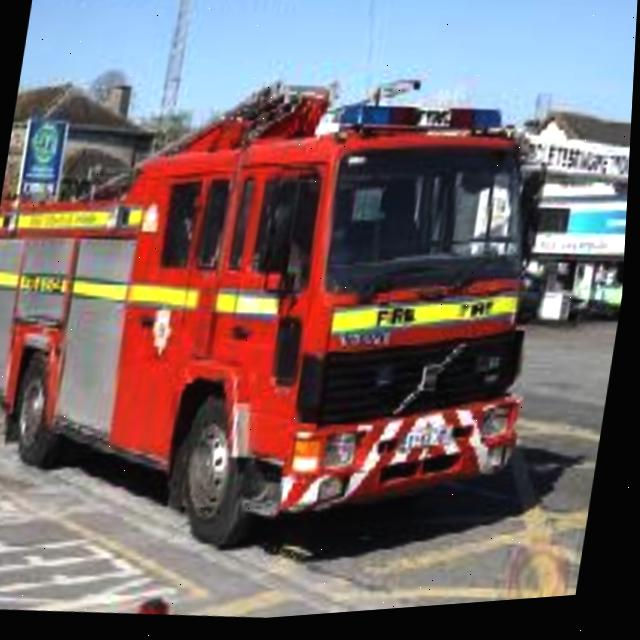emergency: (0, 56, 581, 568)
